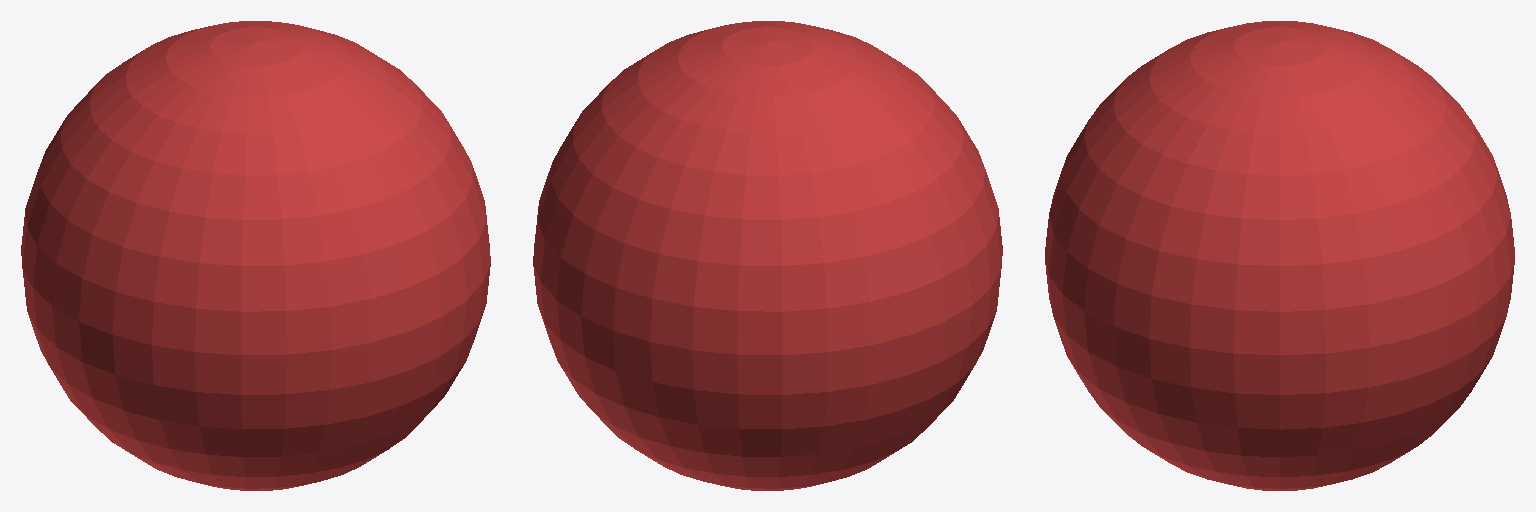
File: smooth_sphere.obj
The picture shows the model from 3 angles: view 1: azimuth 30°, elevation 25°; view 2: azimuth 150°, elevation 25°; view 3: azimuth 270°, elevation 25°; orthographic projection.
Parts seen in each view (by area): view 1: Sphere; view 2: Sphere; view 3: Sphere.
Part boxes in pixels (left/top/right/bottom): Sphere: left=21, top=21, right=490, bottom=490; Sphere: left=533, top=21, right=1002, bottom=490; Sphere: left=1045, top=21, right=1514, bottom=490.
Bounding box in the file's own units: 2 × 2 × 2.